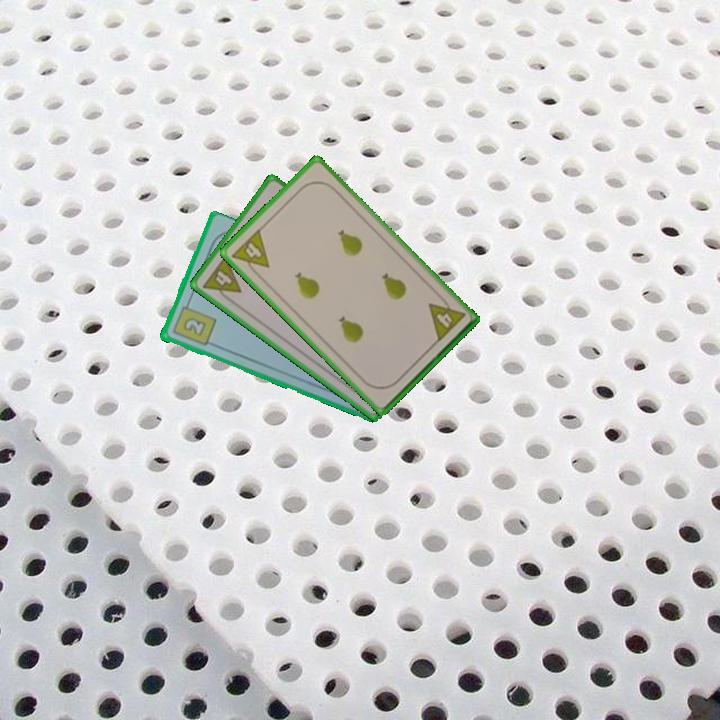2b: (169, 298, 218, 349)
4p: (199, 252, 244, 306), (228, 225, 272, 280), (425, 291, 468, 345)
